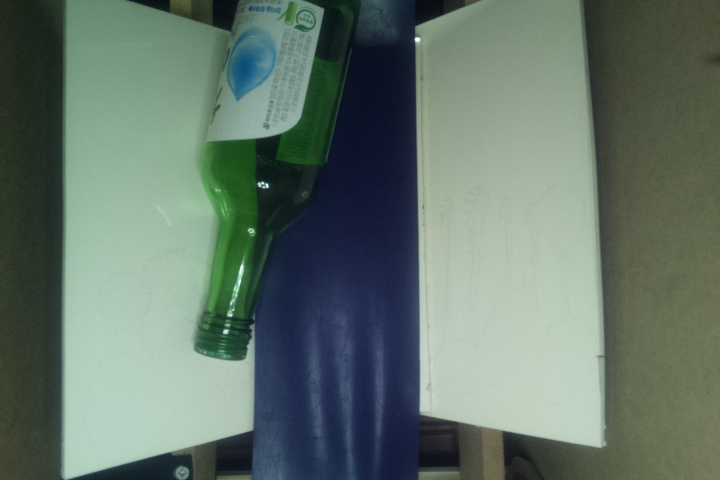soju: (190, 1, 357, 362)
